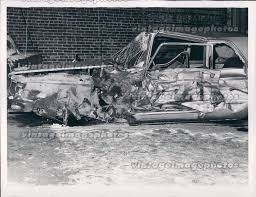Smashed: (12, 30, 247, 124)
